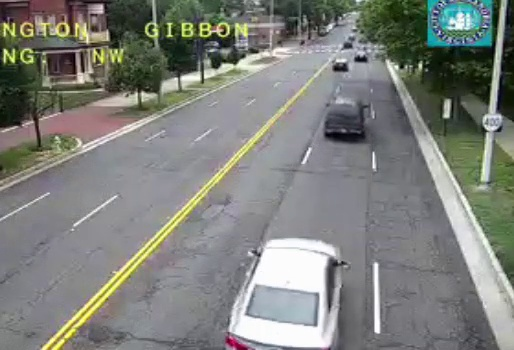car: (224, 238, 343, 350), (324, 98, 364, 138)
